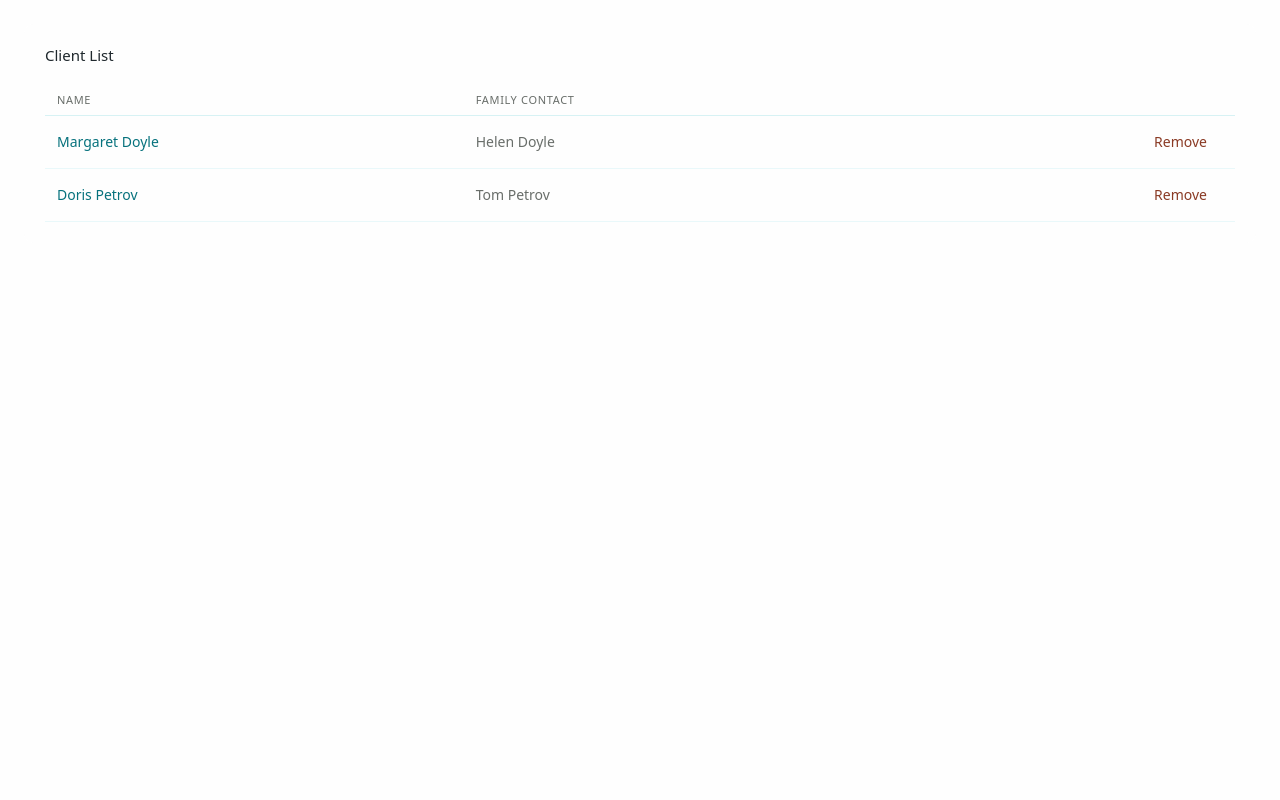
Test: [ADM-04][PRD] removes only the confirmed client
Click the button with aria-label "Remove Margaret Doyle": {"x": 1181, "y": 142} [1138,120,1223,164]
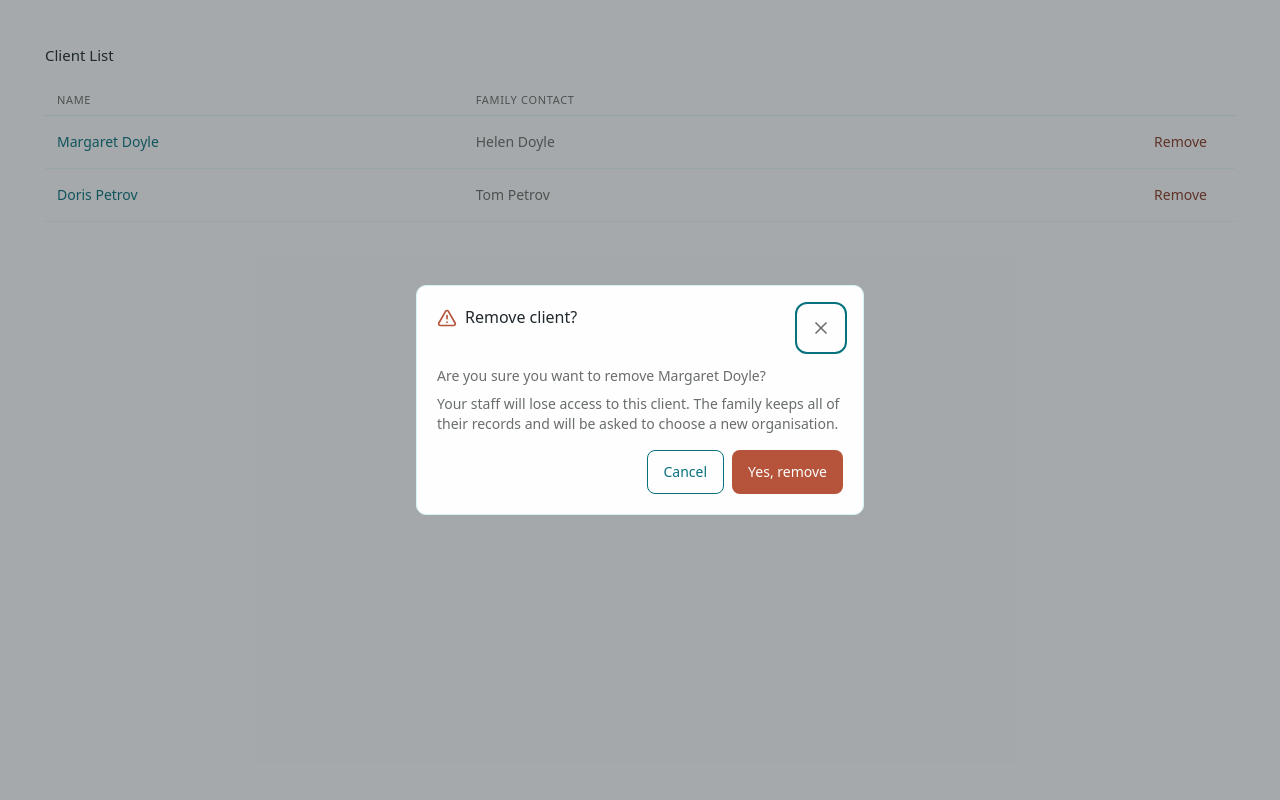
Click the button "Yes, remove": {"x": 788, "y": 472} [732,450,843,494]
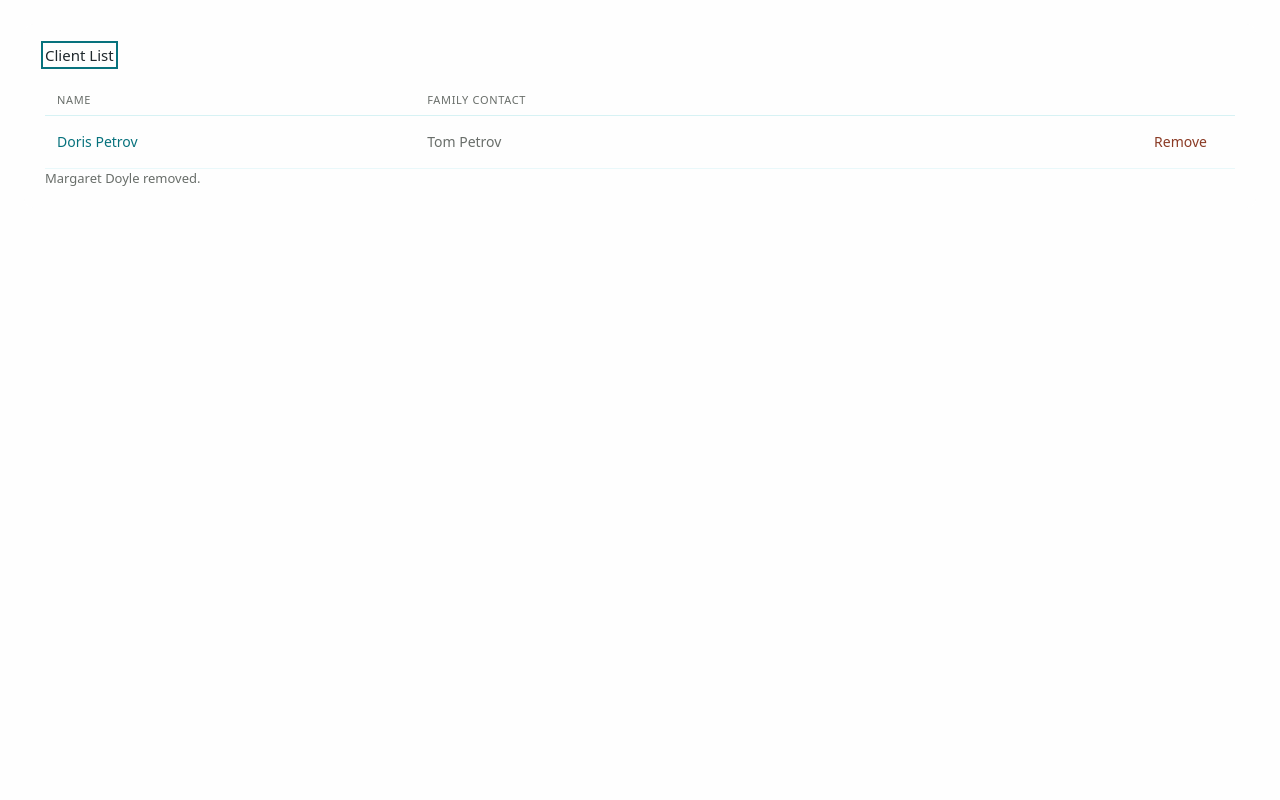
Expected: the row "Doris Petrov Tom Petrov Remove" is shown, [45,116,1235,168]
Result: the dialog is gone
Result: the message shows "Margaret Doyle removed" at [45,169,200,187]
